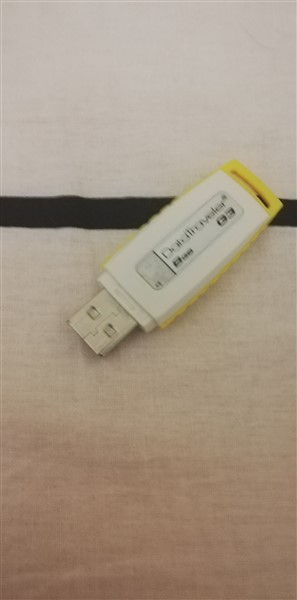flash disk: (62, 160, 288, 365)
